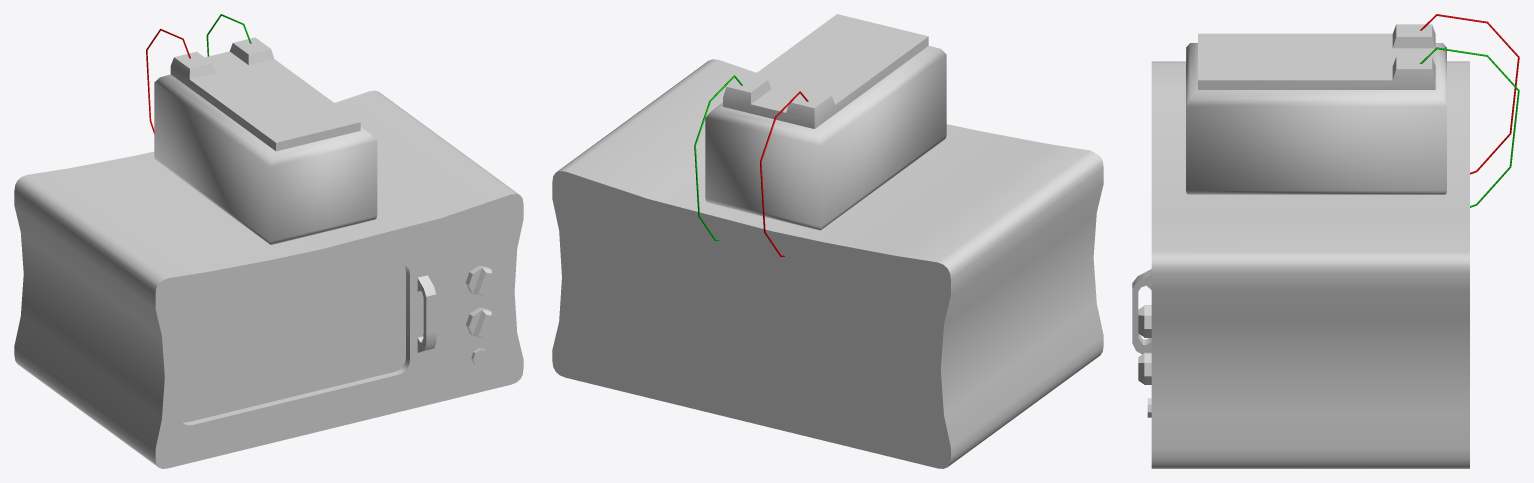
File: MicrowaveForceFieldMachine.fbx
3 views of the same model, side by side, from view 1: azimuth 30°, elevation 25°; view 2: azimuth 150°, elevation 25°; view 3: azimuth 270°, elevation 25° (orthographic). The views are drawn at different scales.
Visible parts, largest first — view 1: Microwave, Battery; view 2: Microwave, Battery; view 3: Microwave, Battery, RedCable, GreenCable.
Boxes of the visible parts, bbox=[...] form: Microwave: bbox=[14, 90, 523, 468]; Battery: bbox=[154, 37, 377, 244]; Microwave: bbox=[552, 59, 1103, 468]; Battery: bbox=[705, 14, 946, 230]; Microwave: bbox=[1132, 61, 1469, 468]; Battery: bbox=[1186, 24, 1446, 194]; RedCable: bbox=[1420, 47, 1519, 207]; GreenCable: bbox=[1420, 14, 1519, 174].
Bounding box in the file's own units: 13.28 × 10.44 × 10.74.
